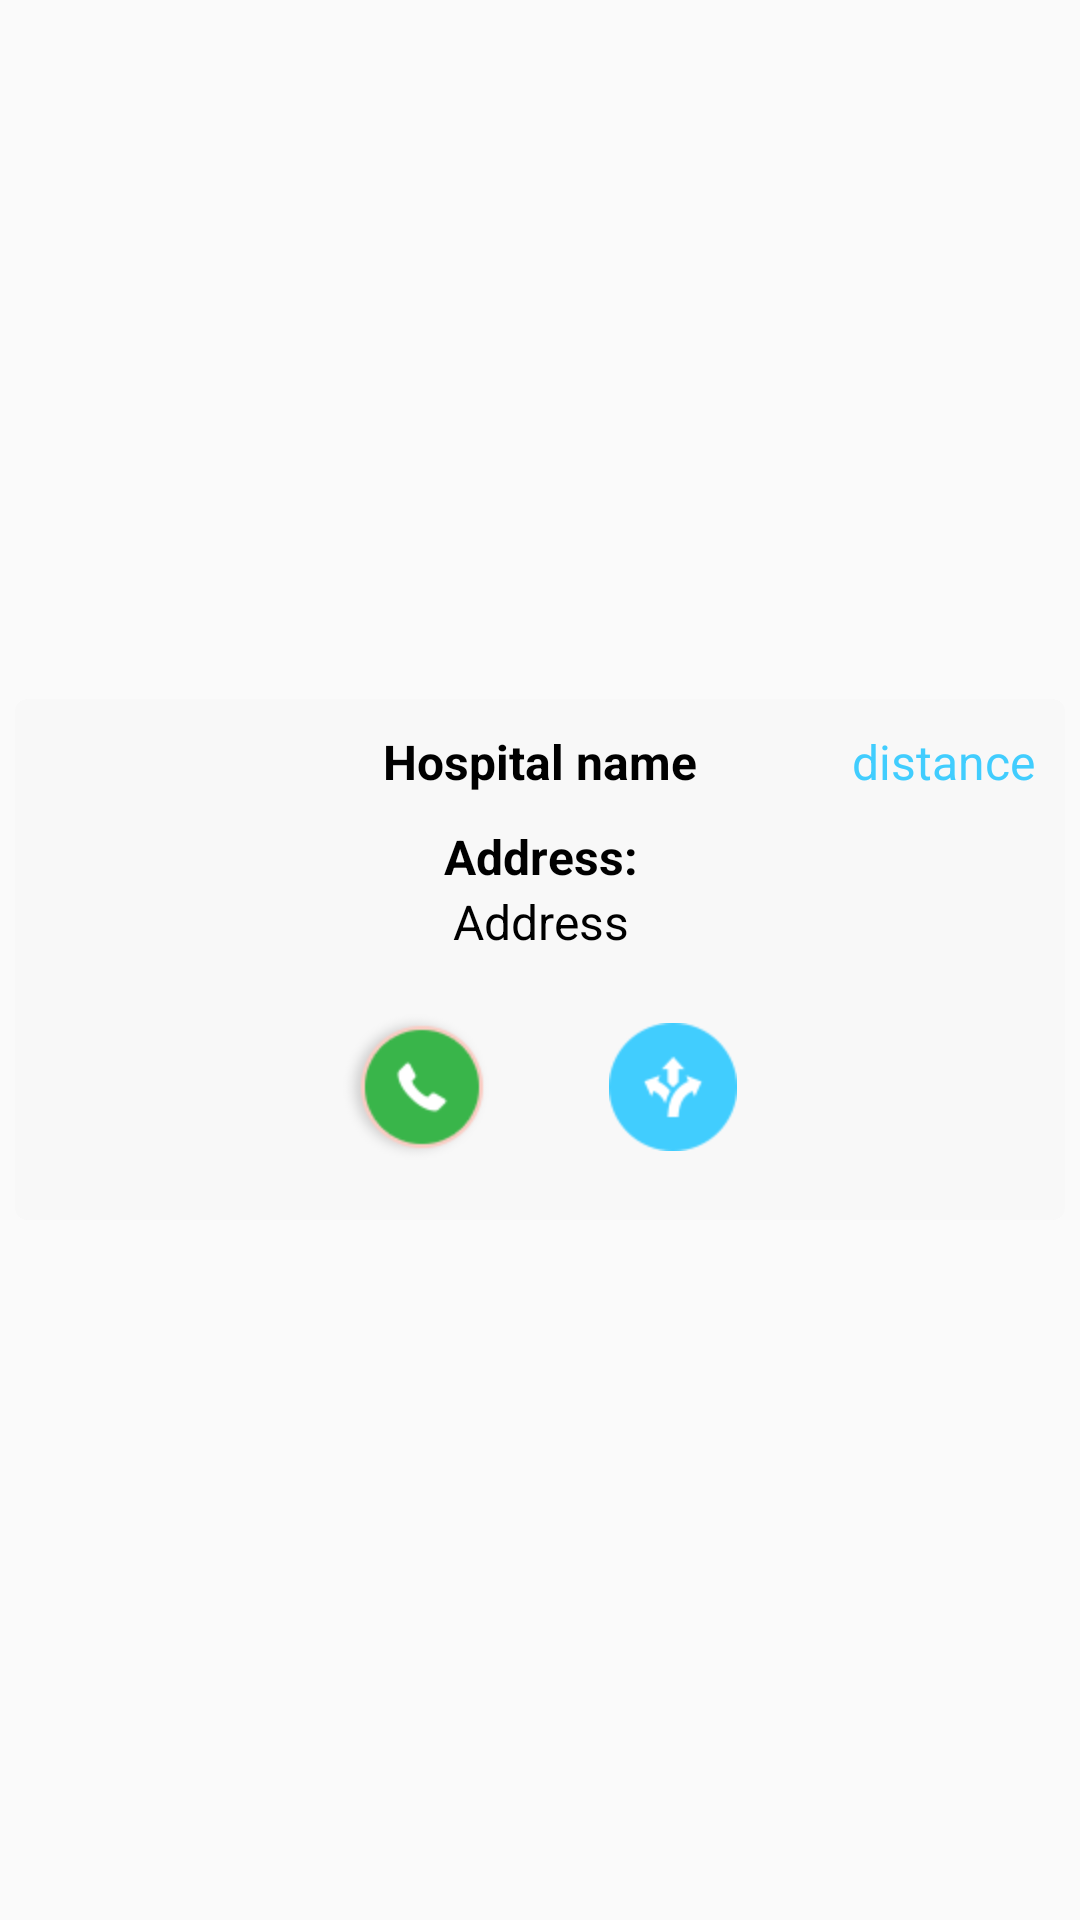

Where icons sit on this 1080 × 1920 app screen, as (x1,y1,x2,y2):
call list: (356,1025,483,1149)
direction: (609,1023,737,1151)
